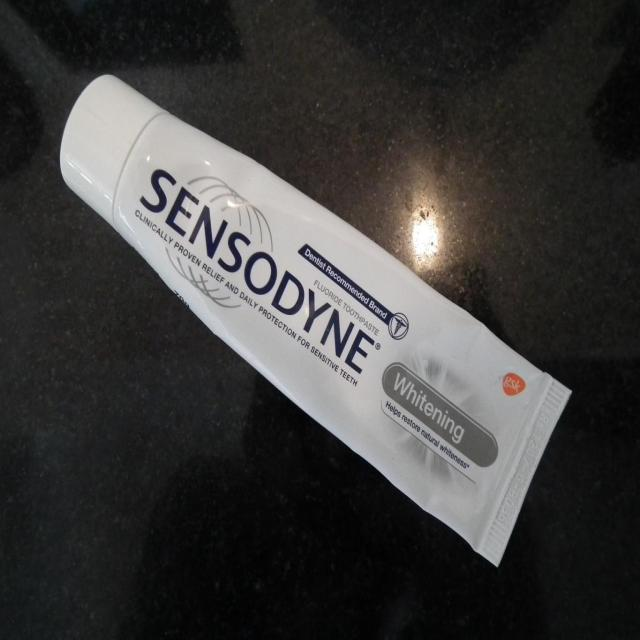Toothpaste: (59, 72, 573, 572)
